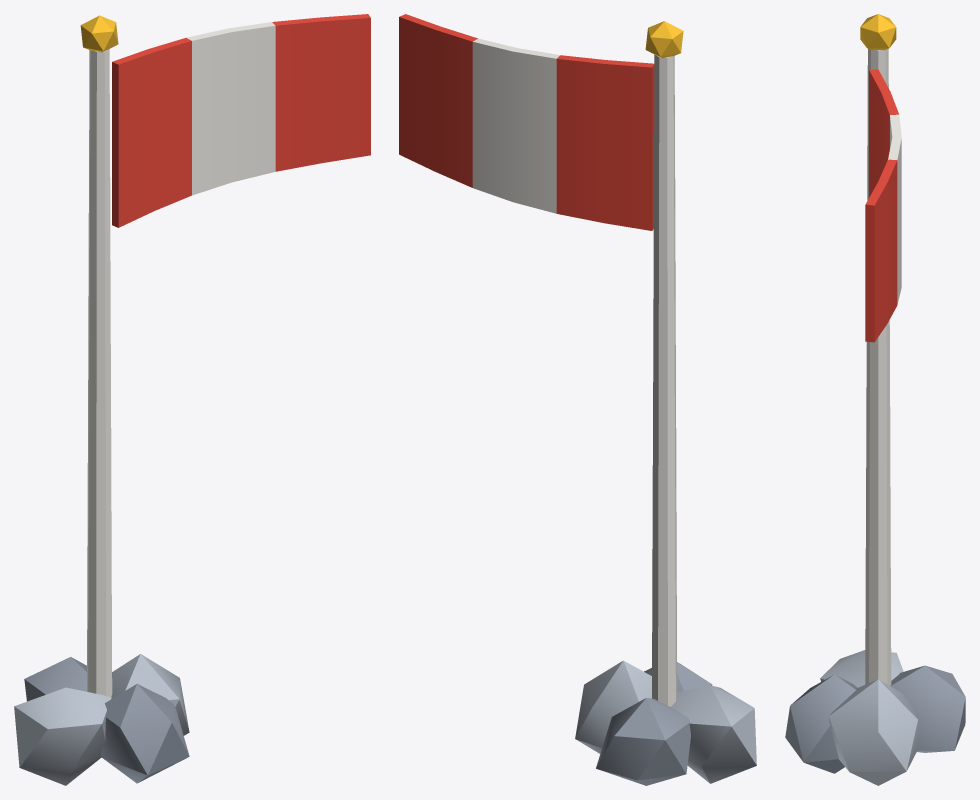
The model's file is home_flag.fbx.
3 renders of one model, left to right at view 1: azimuth 30°, elevation 25°; view 2: azimuth 150°, elevation 25°; view 3: azimuth 270°, elevation 25°, orthographic.
Visible parts, largest first — view 1: home_flag; view 2: home_flag; view 3: home_flag.
Boxes of the visible parts, box(x1,y1,x2,y2) form: home_flag: box(14, 14, 370, 785); home_flag: box(399, 14, 756, 785); home_flag: box(785, 14, 965, 785).
Bounding box in the file's own units: 0.8598 × 1.76 × 0.3825.
